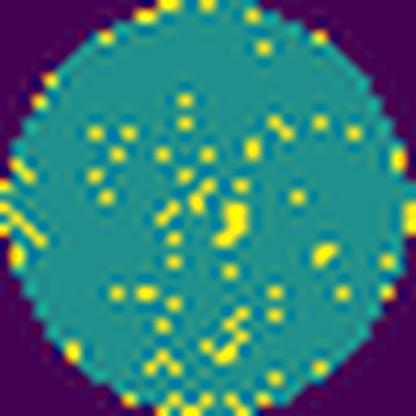Center: (206, 196, 255, 250)
